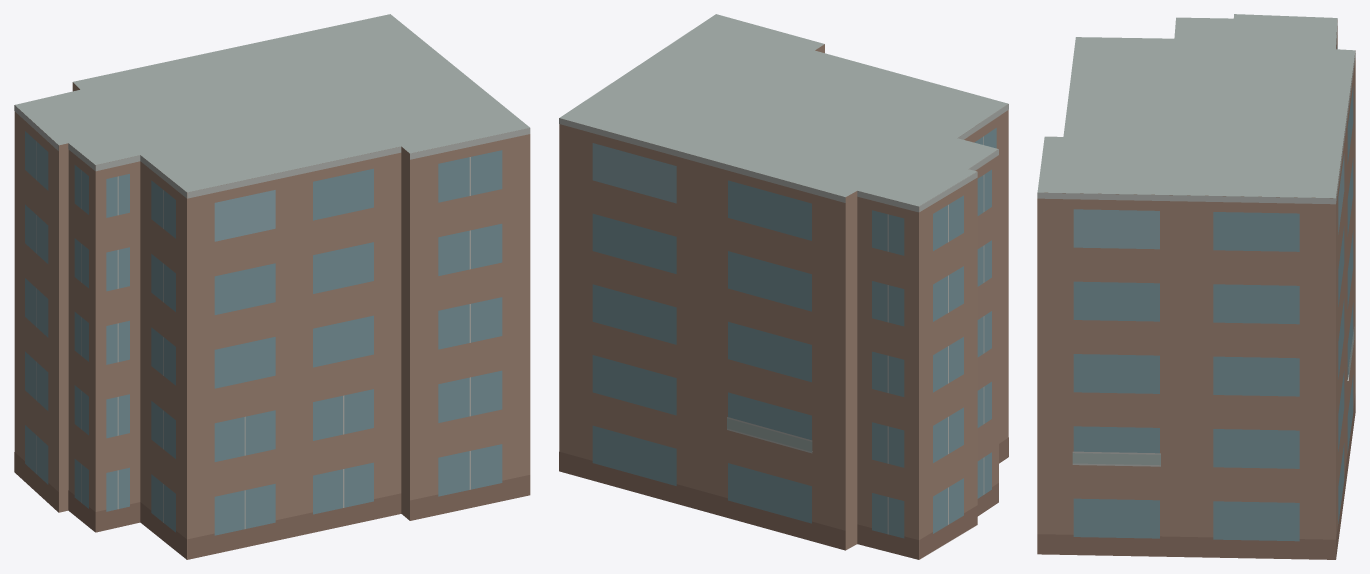
The model's file is survey-upis-32603305.glb.
3 views of the same model, side by side, from view 1: azimuth 30°, elevation 25°; view 2: azimuth 150°, elevation 25°; view 3: azimuth 270°, elevation 25° (orthographic). The views are drawn at different scales.
Parts seen in each view (by area): view 1: survey-upis-32603305.tmp; view 2: survey-upis-32603305.tmp; view 3: survey-upis-32603305.tmp.
Boxes of the visible parts, bbox=[...] form: survey-upis-32603305.tmp: bbox=[14, 14, 530, 559]; survey-upis-32603305.tmp: bbox=[559, 14, 1008, 559]; survey-upis-32603305.tmp: bbox=[1037, 14, 1355, 559].
Bounding box in the file's own units: 15.84 × 14.5 × 11.57.
